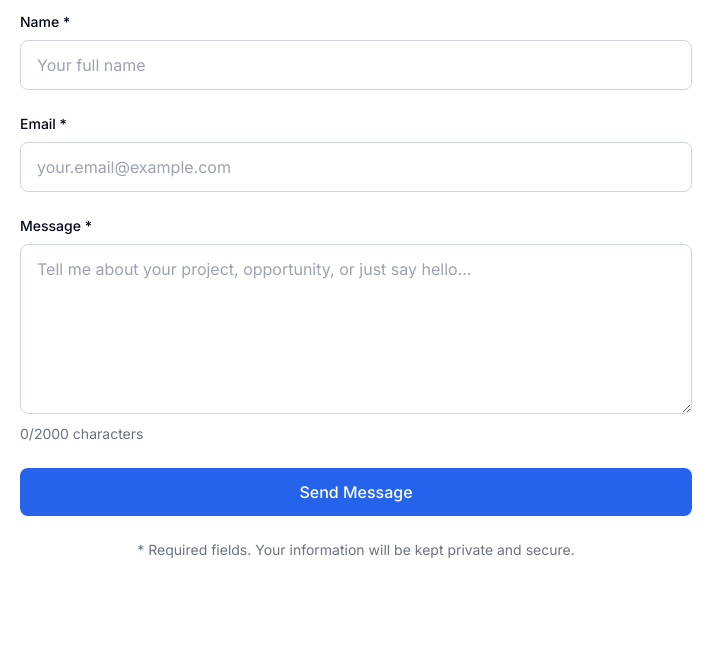
it: ContactForm › clears field errors when user starts typing
// Trigger validation errors
Click the button "Send Message": (356, 492) [20,468,692,516]
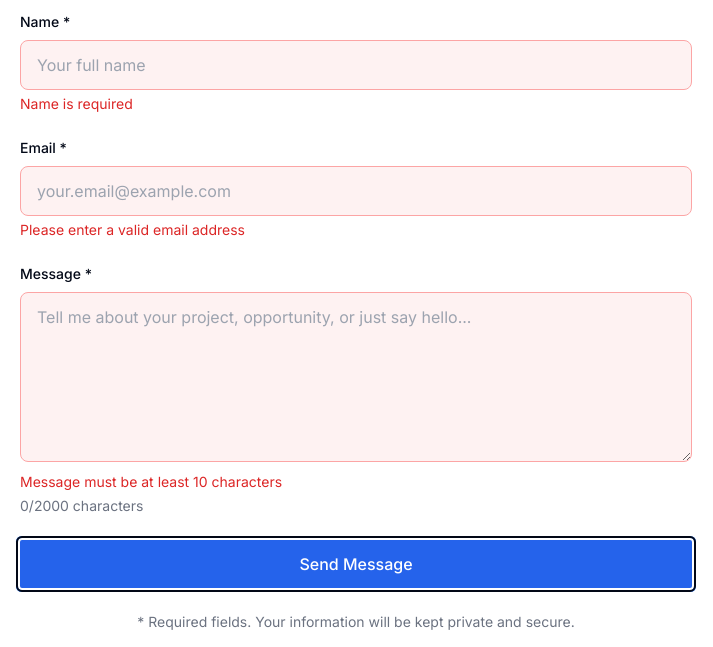
Check: the text "Name is required" is shown, box [20,95,133,112]
// Start typing in name field
In the field labelled "Name *": (356, 65) [20,40,692,90], type "John"
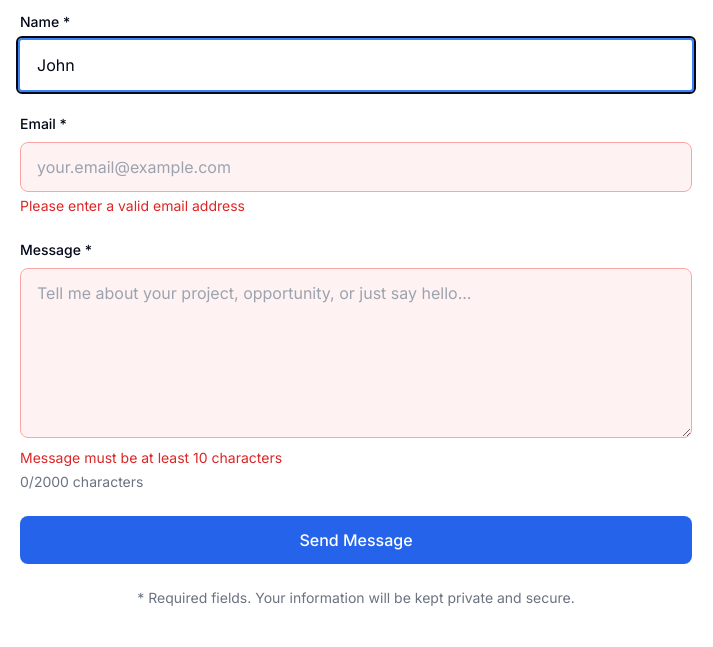
Check: the text "Name is required" is gone
